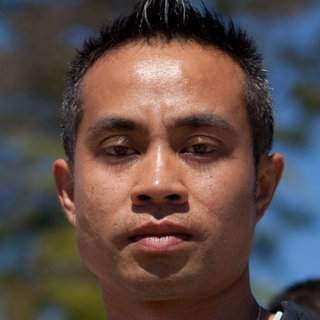eye: (93, 139, 146, 162), (176, 138, 227, 159)
